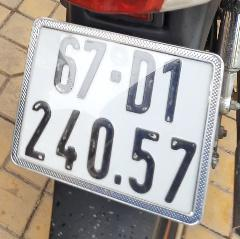0: (87, 112, 117, 183)
1: (160, 55, 186, 128)
2: (24, 97, 50, 163)
4: (53, 106, 83, 175)
5: (121, 124, 161, 197)
6: (48, 34, 78, 96)
7: (166, 129, 200, 210), (77, 37, 109, 102)
D: (123, 46, 156, 114)
